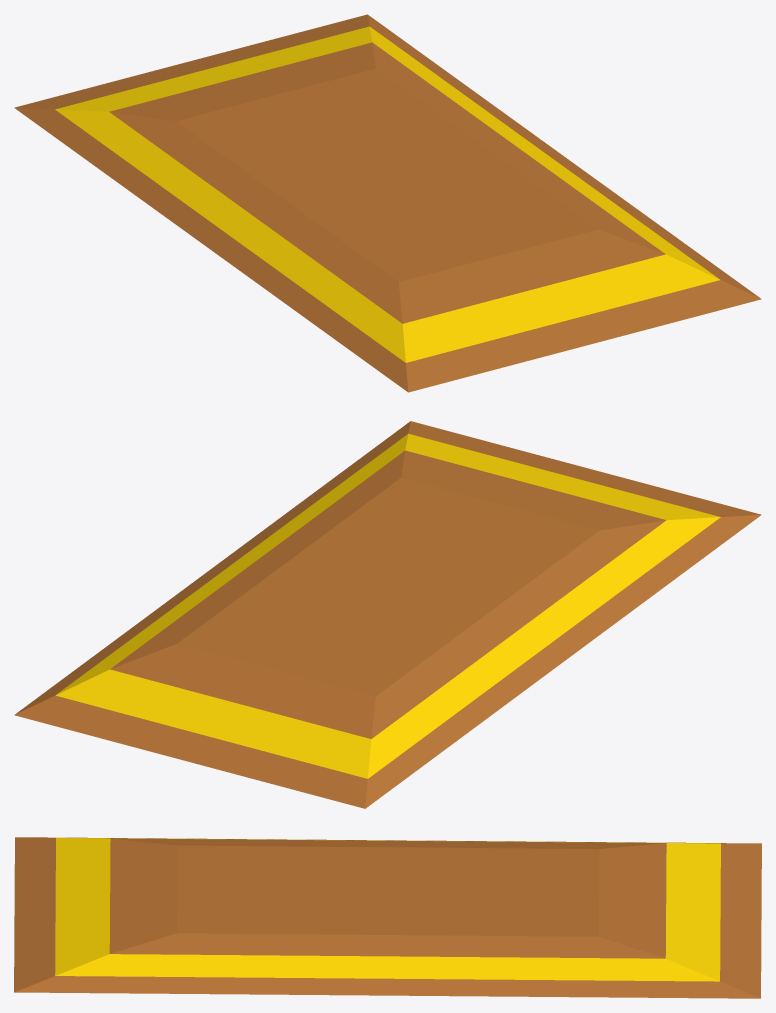
File: copper_square_shield.glb
The picture shows the model from 3 angles, top to bottom: view 1: azimuth 30°, elevation 25°; view 2: azimuth 150°, elevation 25°; view 3: azimuth 270°, elevation 25°; orthographic projection. The views are drawn at different scales.
Visible parts, largest first — view 1: copper_square_shield; view 2: copper_square_shield; view 3: copper_square_shield.
Boxes of the visible parts, x1,y1,x2,y2 form: copper_square_shield: (14, 14, 761, 392); copper_square_shield: (14, 421, 761, 808); copper_square_shield: (14, 837, 761, 998).
Size of the model in its own units: 0.3961 by 0.0411 by 0.7668.
